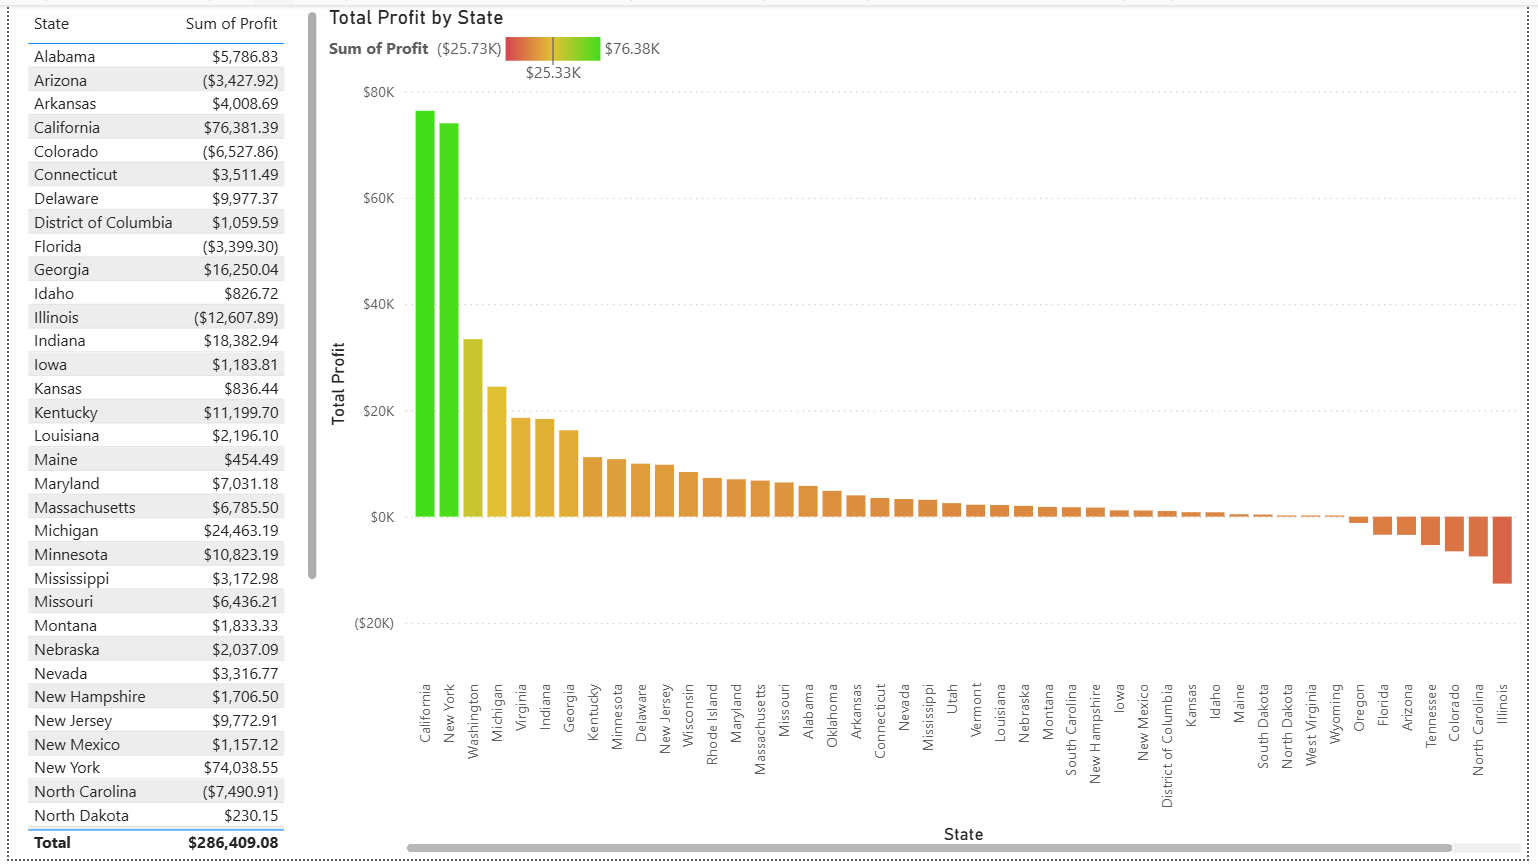

Layout of this report page (visuals, bound fields, positions):
{"tool":"powerbi","page":{"name":"State Profitability ","canvas":[1280,720],"ordinal":5},"visuals":[{"type":"tableEx","fields":{"Values":["RawData.State","Sum(RawData.Profit)"]},"box":[9.7,0,254.8,719.8],"z":0},{"type":"clusteredColumnChart","title":"Total Profit by State","fields":{"Category":["RawData.State"],"Y":["Sum(RawData.Profit)"]},"box":[264.6,0,1015.4,719.8],"z":1000}]}

Visuals, with their boxes in screenshot pixels (x1, y1, x2, y2), scaled from the page's 1280x720 canvas onto the 1538x867 screenshot:
tableEx - RawData.State x Sum(RawData.Profit): [left=12, top=0, right=318, bottom=866]
"Total Profit by State" clusteredColumnChart: [left=318, top=0, right=1537, bottom=866]
